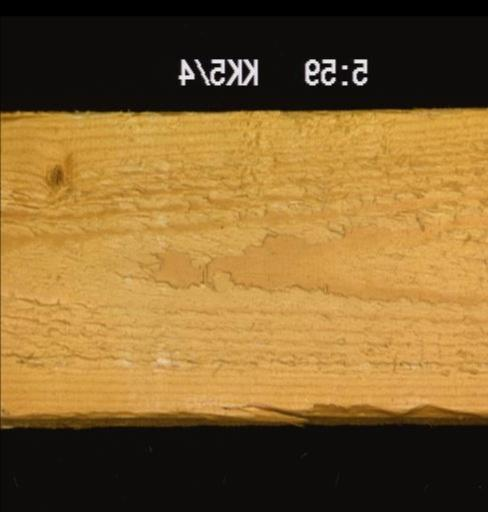small_knot: (40, 158, 67, 193)
split: (0, 109, 52, 123)
wave: (0, 393, 486, 423)
